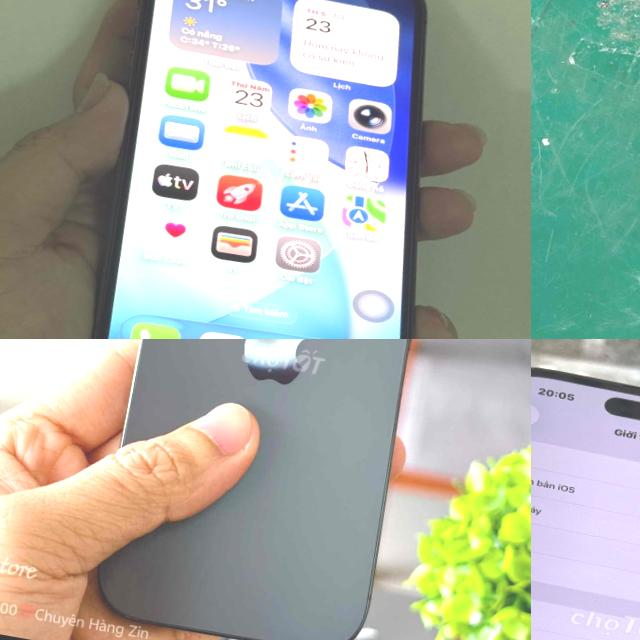gen_12_13: (63, 0, 483, 339)
gen_14: (531, 352, 640, 640)
gen_16: (72, 339, 462, 640)
